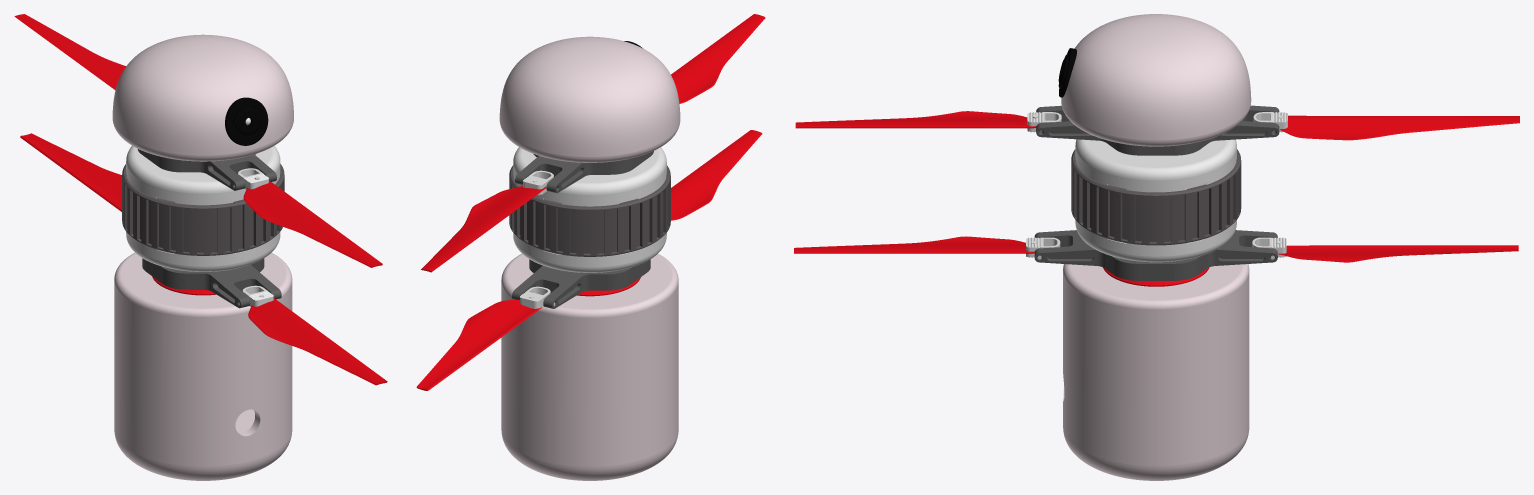
The model's file is robot.glb.
3 views of the same model, side by side, from view 1: azimuth 30°, elevation 25°; view 2: azimuth 150°, elevation 25°; view 3: azimuth 270°, elevation 25° (orthographic). The views are drawn at different scales.
Visible parts, largest first — view 1: 物体, 物体.077, 物体.070, 物体.068, 物体.086, 物体.079, 物体.058, 物体.065, 物体.069, 物体.092, 物体.054, 物体.082 (+4 smaller); view 2: 物体, 物体.077, 物体.070, 物体.068, 物体.092, 物体.058, 物体.086, 物体.079, 物体.082, 物体.069, 物体.065, 物体.054 (+2 smaller); view 3: 物体, 物体.077, 物体.070, 物体.068, 物体.058, 物体.082, 物体.054, 物体.079, 物体.092, 物体.086, 物体.069, 物体.065.
Part boxes in pixels (x1,y1,x2,y2): 物体: [114, 252, 292, 466]; 物体.077: [112, 34, 293, 161]; 物体.070: [122, 164, 284, 255]; 物体.068: [126, 145, 280, 205]; 物体.086: [248, 298, 387, 385]; 物体.079: [243, 180, 382, 267]; 物体.058: [142, 258, 281, 308]; 物体.065: [114, 409, 292, 480]; 物体.069: [126, 231, 280, 271]; 物体.092: [20, 133, 121, 211]; 物体.054: [137, 149, 276, 190]; 物体.082: [14, 14, 125, 90]; 物体: [501, 253, 678, 466]; 物体.077: [499, 36, 680, 162]; 物体.070: [509, 165, 670, 256]; 物体.068: [513, 147, 666, 206]; 物体.092: [416, 299, 541, 390]; 物体.058: [512, 259, 650, 308]; 物体.086: [671, 130, 762, 220]; 物体.079: [671, 14, 765, 103]; 物体.082: [421, 186, 545, 272]; 物体.069: [513, 233, 666, 272]; 物体.065: [501, 431, 678, 480]; 物体.054: [515, 151, 653, 193]; 物体: [1063, 264, 1249, 465]; 物体.077: [1061, 14, 1251, 146]; 物体.070: [1071, 149, 1241, 245]; 物体.068: [1075, 139, 1236, 192]; 物体.058: [1034, 230, 1277, 280]; 物体.082: [1280, 115, 1519, 140]; 物体.054: [1036, 105, 1279, 155]; 物体.079: [795, 111, 1036, 128]; 物体.092: [1278, 245, 1518, 262]; 物体.086: [794, 236, 1034, 253]; 物体.069: [1075, 220, 1236, 262]; 物体.065: [1063, 428, 1249, 480].
Bounding box in the file's own units: 0.2485 × 0.618 × 0.9488.
